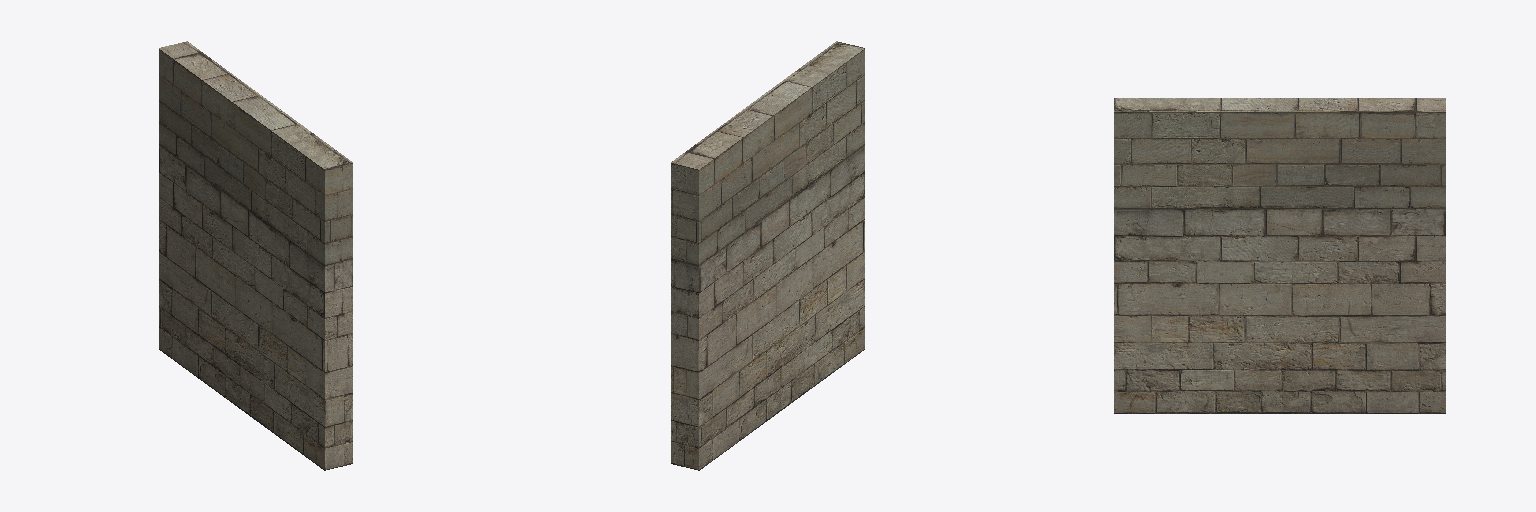
3 renders of one model, left to right at view 1: azimuth 30°, elevation 25°; view 2: azimuth 150°, elevation 25°; view 3: azimuth 270°, elevation 25°, orthographic.
Parts seen in each view (by area): view 1: Cube; view 2: Cube; view 3: Cube.
Boxes of the visible parts, x1,y1,x2,y2 form: Cube: [159, 41, 352, 470]; Cube: [671, 41, 864, 470]; Cube: [1114, 98, 1445, 413].
Size of the model in its own units: 2 by 20 by 20.
Materials: 1 (1 with a texture image).